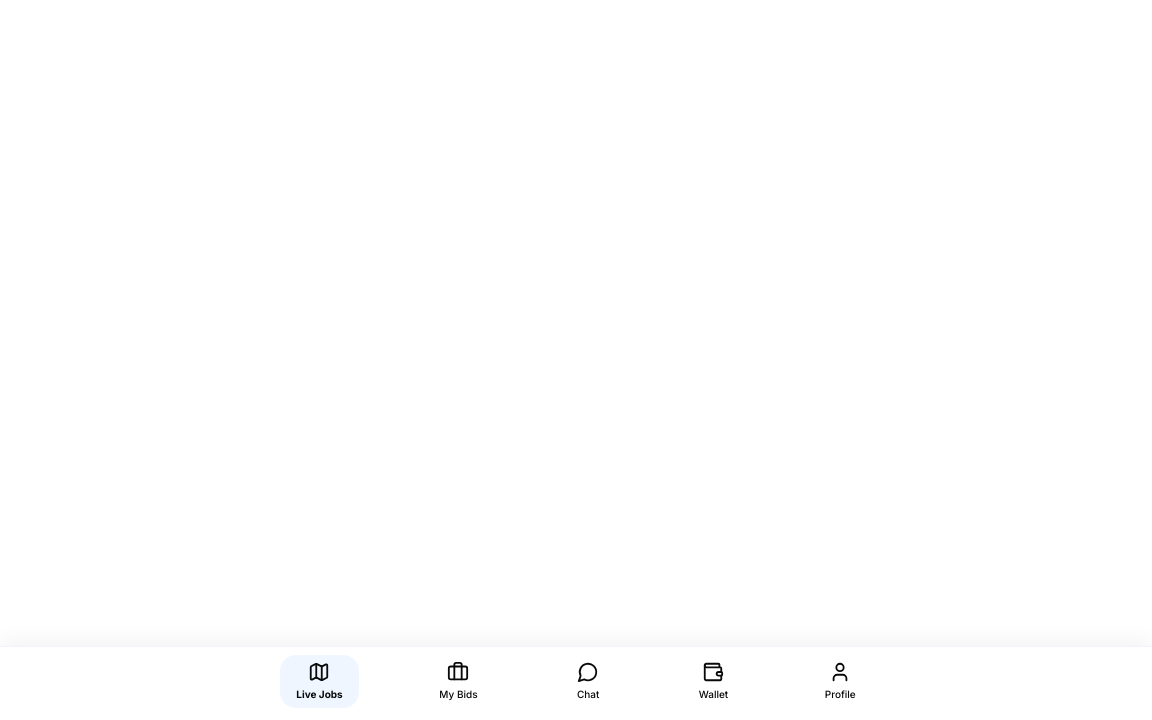
Test: WalletScreen — Sprint 5.6 (refined) › renders each transaction at its booking amount, with no fee deducted
The image size is (1152, 720).
Click the link "Wallet" at (713, 680), box [699, 661, 728, 700]
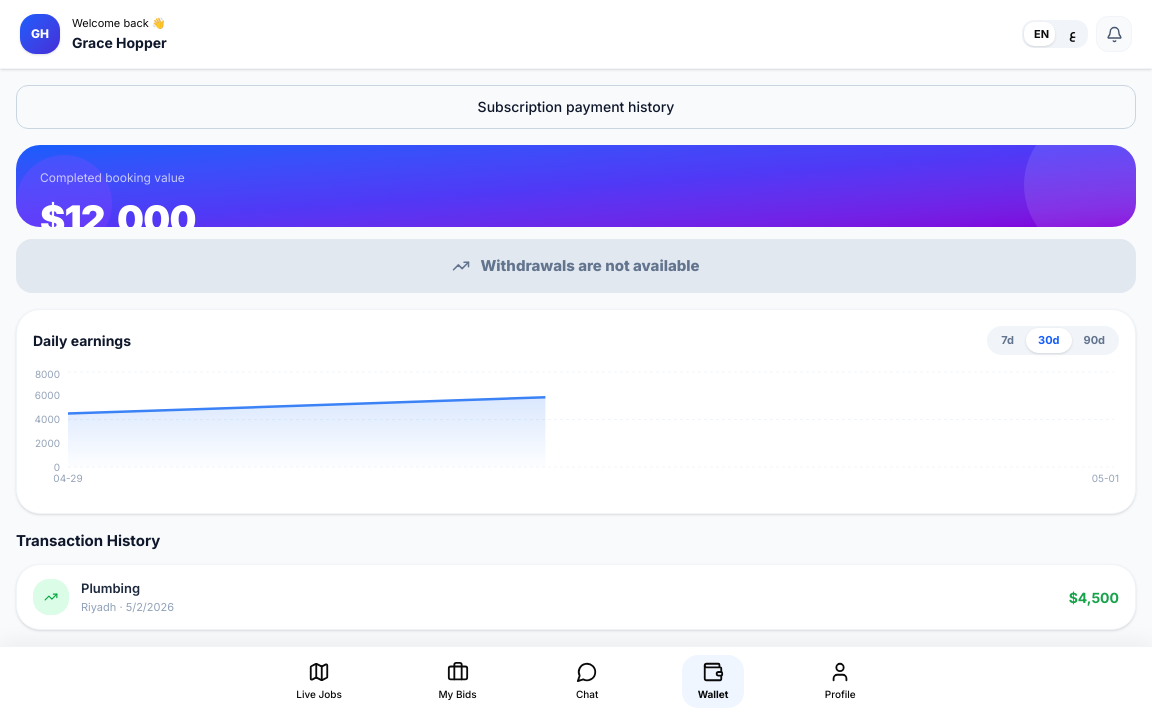
Now the text "Completed booking value" is shown, box [40, 170, 185, 185]
Now the text "Plumbing" is shown, box [81, 580, 140, 596]
Now the text "$4,500" is shown, box [1069, 586, 1119, 608]
